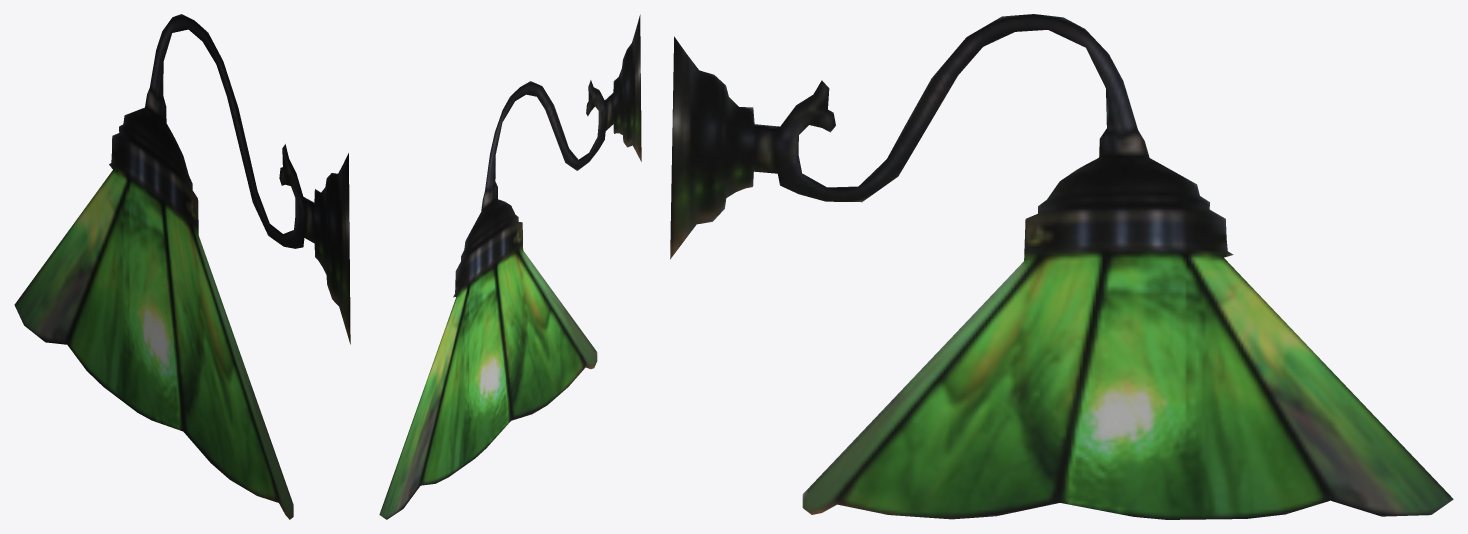
The model's file is grüneLampe.2d.glb.
The picture shows the model from 3 angles, left to right: view 1: azimuth 30°, elevation 25°; view 2: azimuth 150°, elevation 25°; view 3: azimuth 270°, elevation 25°; orthographic projection. The views are drawn at different scales.
Parts seen in each view (by area): view 1: grüneLampe; view 2: grüneLampe; view 3: grüneLampe.
Boxes of the visible parts, box(x1,y1,x2,y2) form: grüneLampe: box(14, 14, 350, 519); grüneLampe: box(379, 14, 641, 519); grüneLampe: box(670, 14, 1453, 519).
Bounding box in the file's own units: 0 × 0.4531 × 0.636.
1 material, 1 textured.
